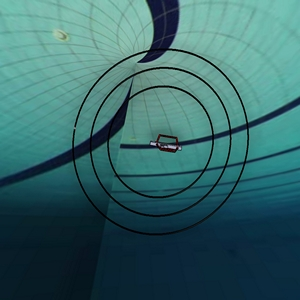circle: (53, 37, 269, 244)
submarine: (141, 122, 193, 165)
